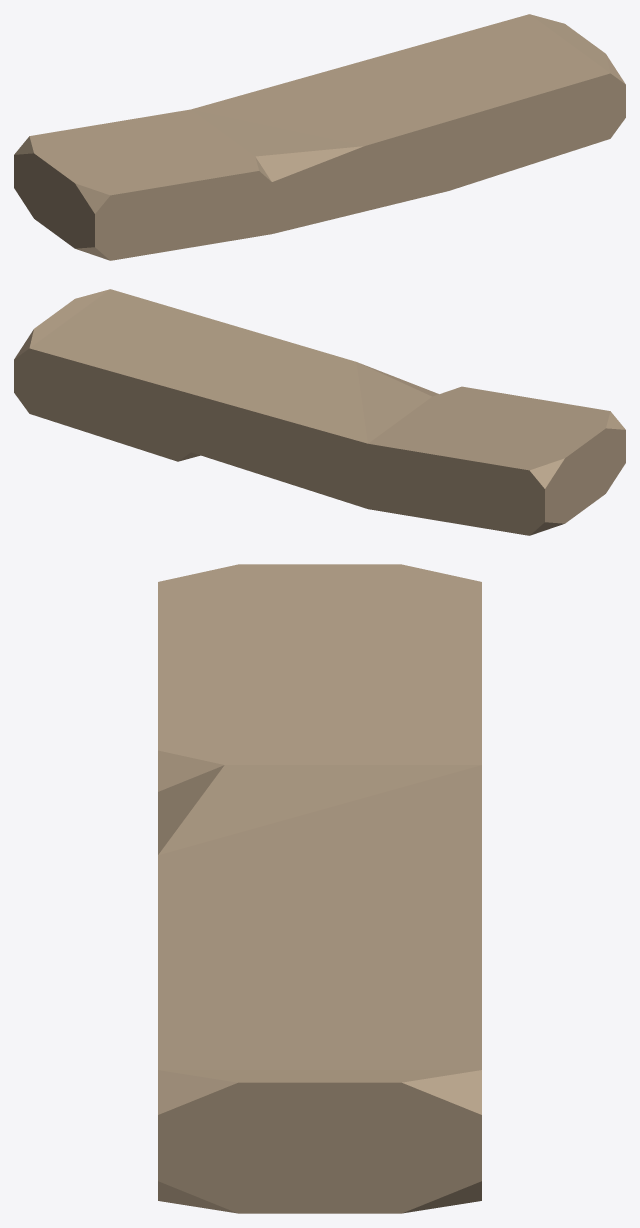
Rendered from Cube Block Long_2.fbx.
The picture shows the model from 3 angles, top to bottom: view 1: azimuth 30°, elevation 25°; view 2: azimuth 150°, elevation 25°; view 3: azimuth 270°, elevation 25°; orthographic projection. The views are drawn at different scales.
Parts seen in each view (by area): view 1: Cube Block Long_2; view 2: Cube Block Long_2; view 3: Cube Block Long_2.
Part boxes in pixels (x1,y1,x2,y2): Cube Block Long_2: (14, 14, 625, 260); Cube Block Long_2: (14, 289, 625, 535); Cube Block Long_2: (158, 564, 481, 1213).
Bounding box in the file's own units: 2.62 × 0.3745 × 0.6927.
